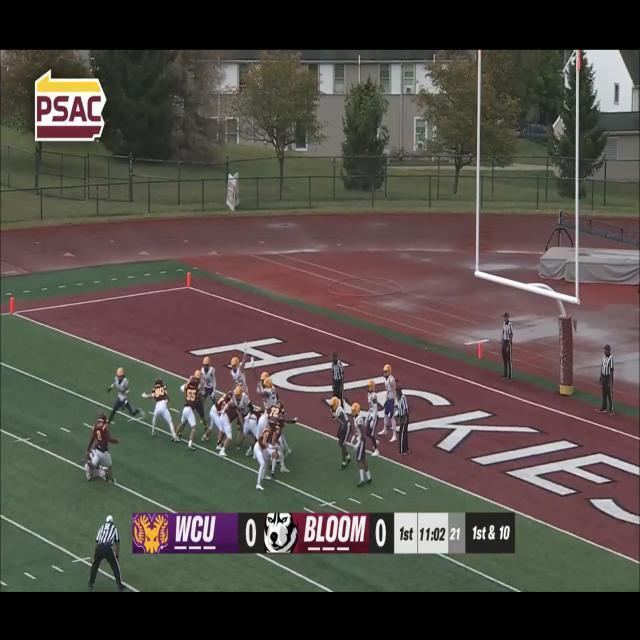football: (104, 464, 112, 486)
